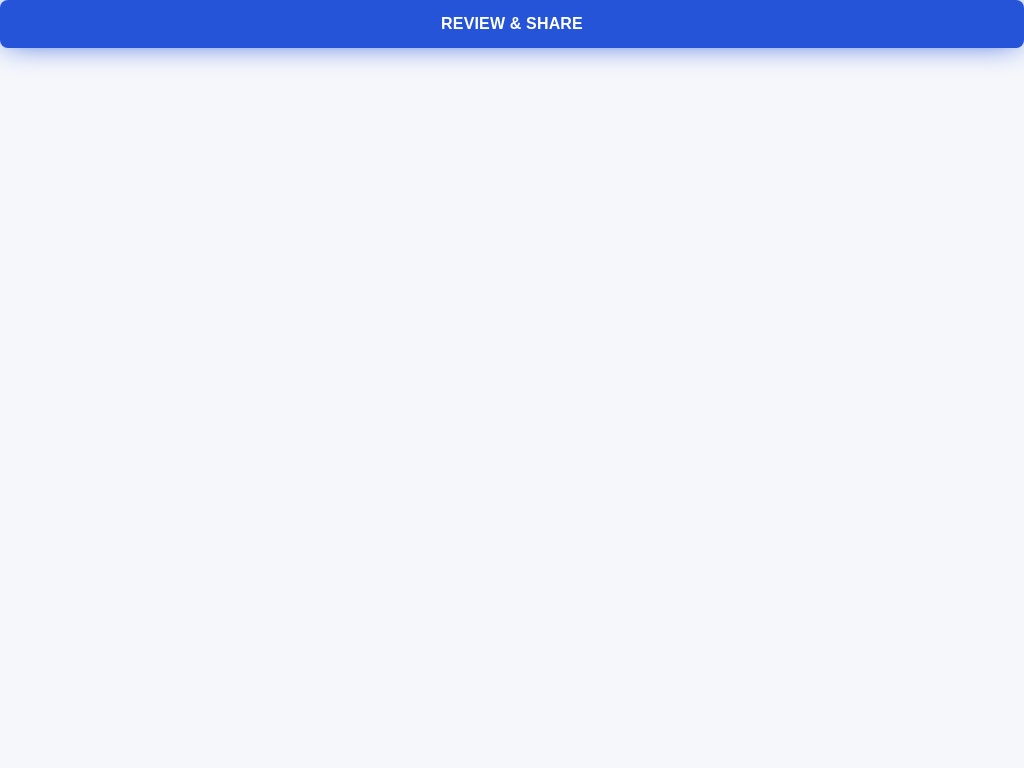
Test: proposal saving › retains the review and reports a failed save instead of claiming success
The width and height of the screenshot is (1024, 768).
Step 1. Click the button "Review & Share" → (512, 24), box [0,0,1023,48]
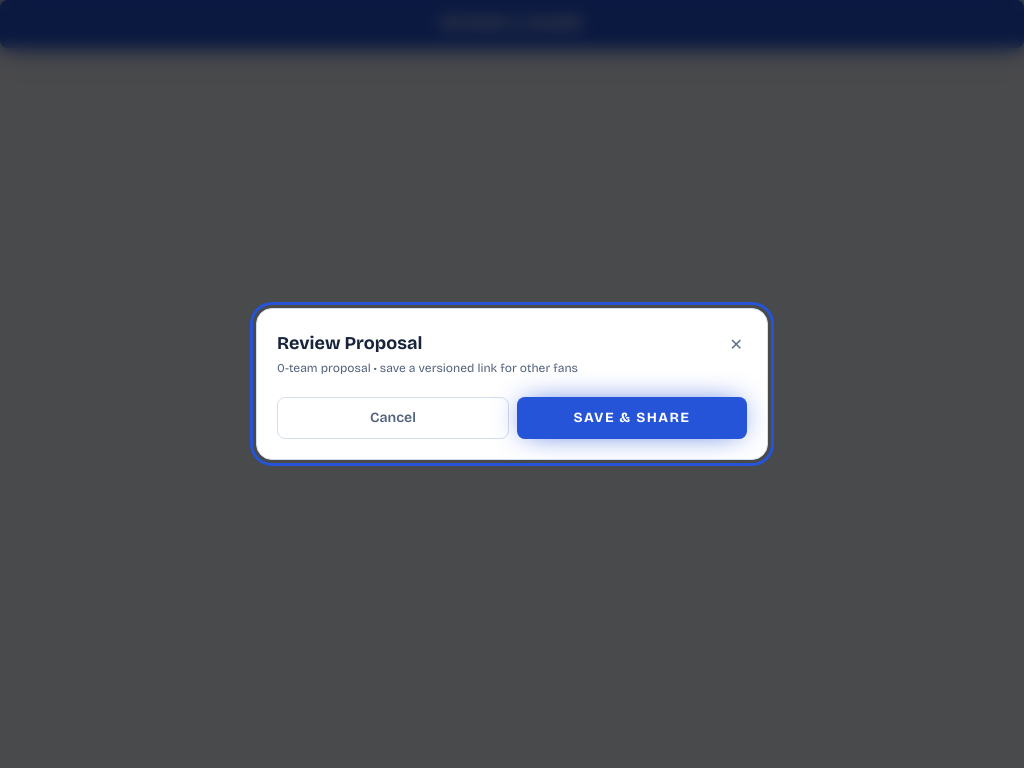
Step 2. Click the button "Save & Share" → (632, 418), box [517,397,747,439]
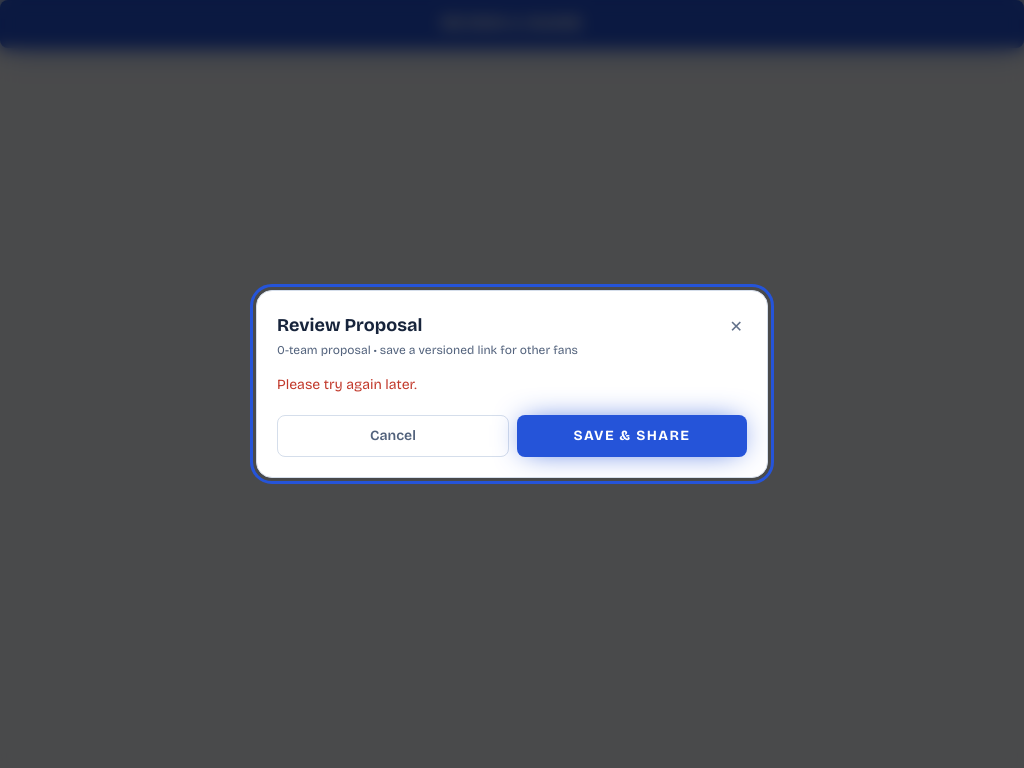
Now the message reads "Please try again later.", box [277,376,417,393]
